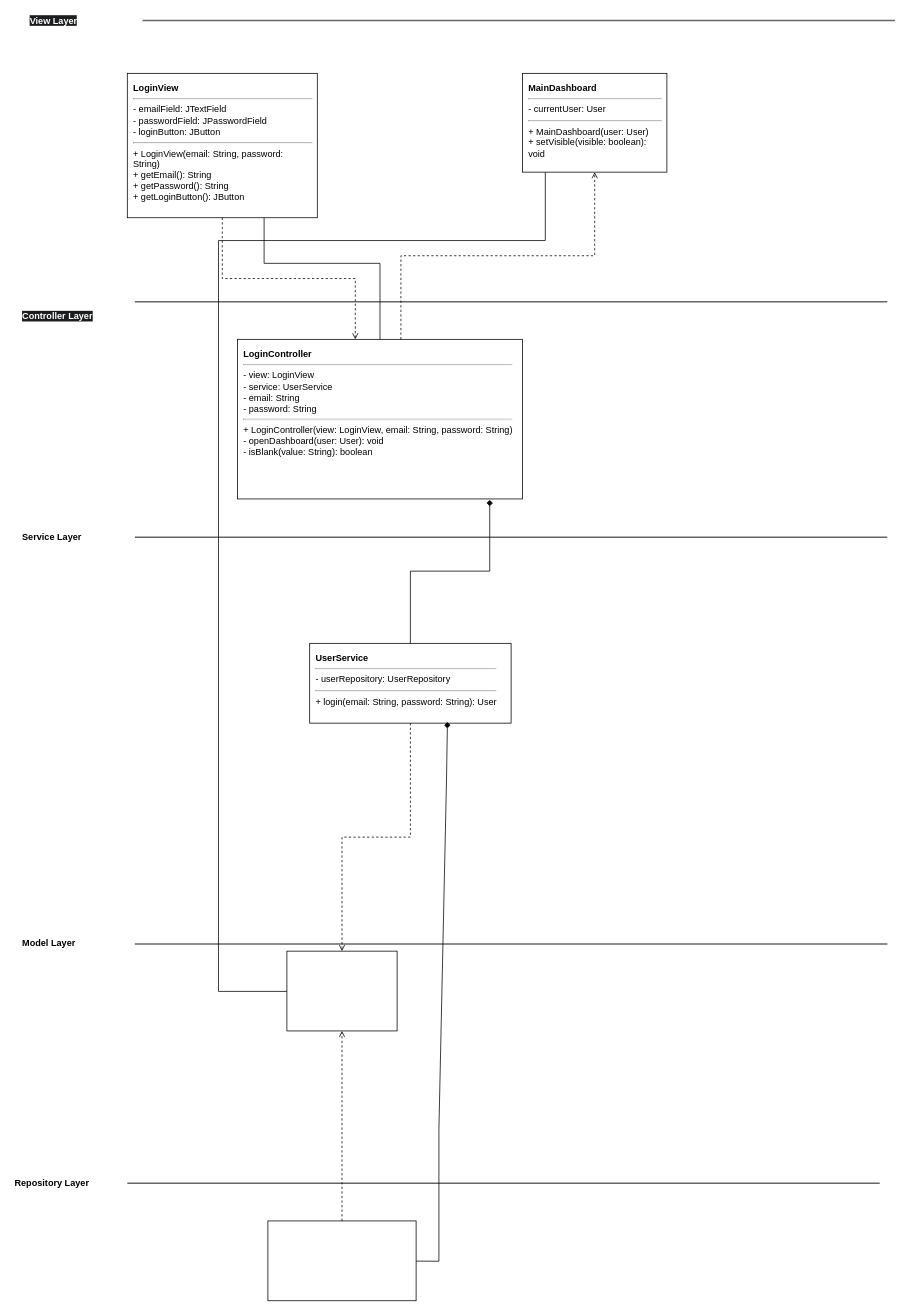
The diagram is 908 pixels wide and 1314 high, and some of its shapes have lost their labels. Here are the shapes that lost their labels. From the top down, the centre of each, then its label:
(341,990): User + getRole(): String + getFullName(): String + getId(): int
(341,1260): UserRepository + findByEmail(email: String): User
